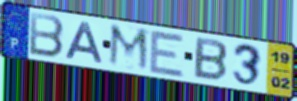3: (230, 42, 266, 89)
A: (62, 19, 106, 65)
B: (28, 10, 66, 60), (192, 35, 229, 83)
E: (148, 28, 187, 80)
M: (106, 22, 152, 74)
